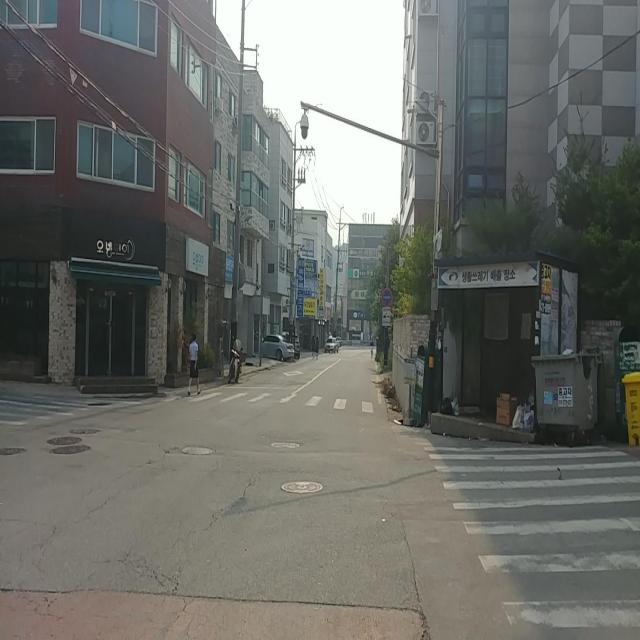횡단보도: (422, 442, 638, 630), (165, 388, 409, 418)
